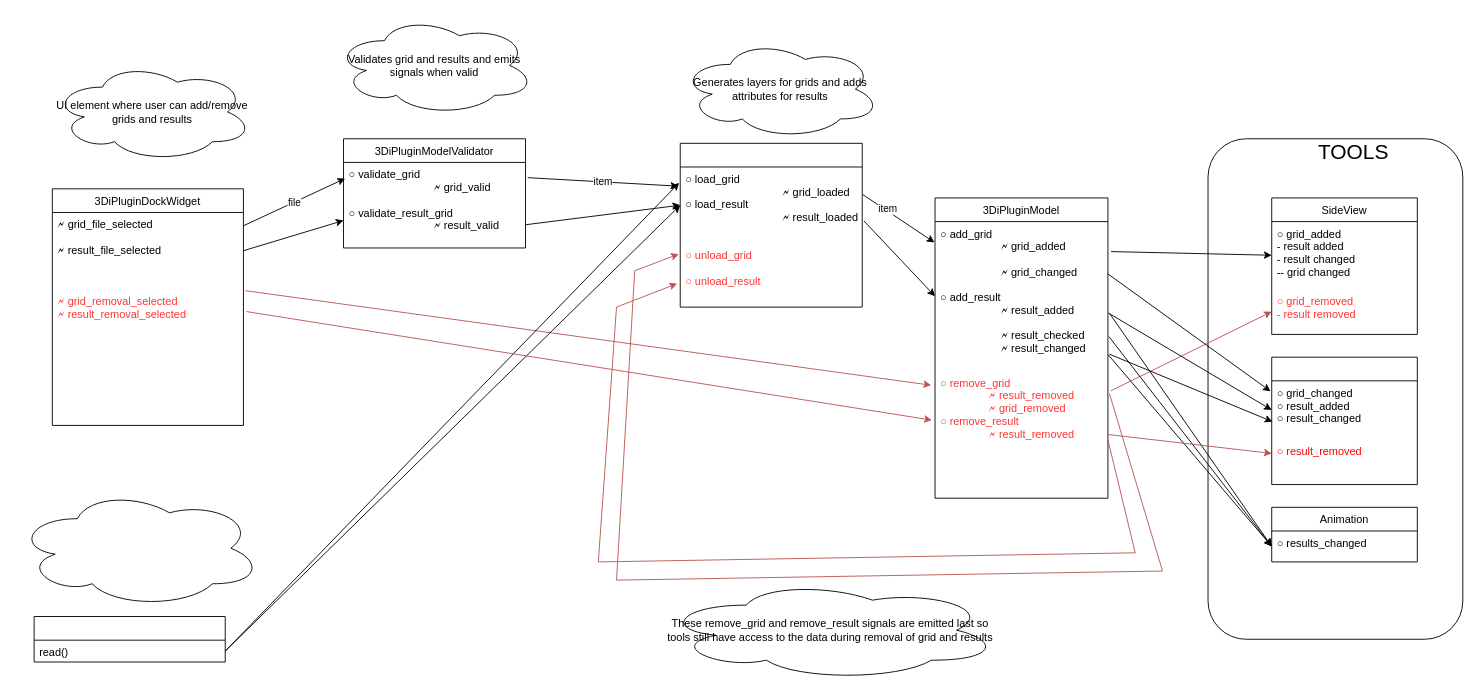
Some shapes in this 1479 by 696 pixel diagram are drawn without their labels. The shapes that lost their labels are listed below. From the top down, each one's box as (x1, y1, x2, y2) in pixels, then its label:
(679, 142, 862, 307): 3DiPluginLayerManager
(1271, 356, 1417, 485): Graph
(15, 488, 262, 607): Loads a model from the QGIS project and subsequenty loads grids and resuts
(33, 616, 225, 662): 3DiPluginModelSerializer
